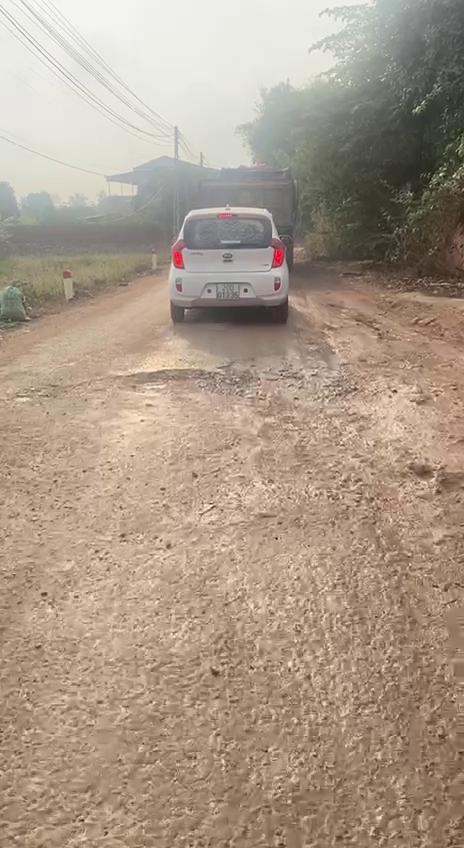pothole: (103, 360, 350, 400)
